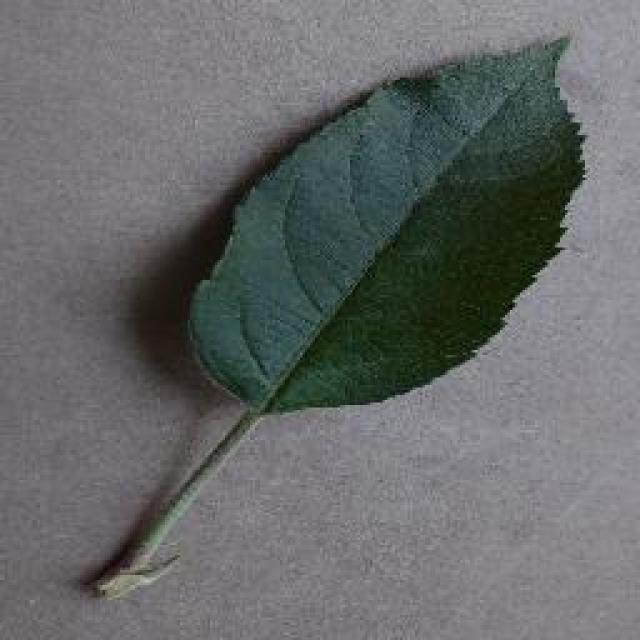apple healthy: (82, 30, 590, 600)
